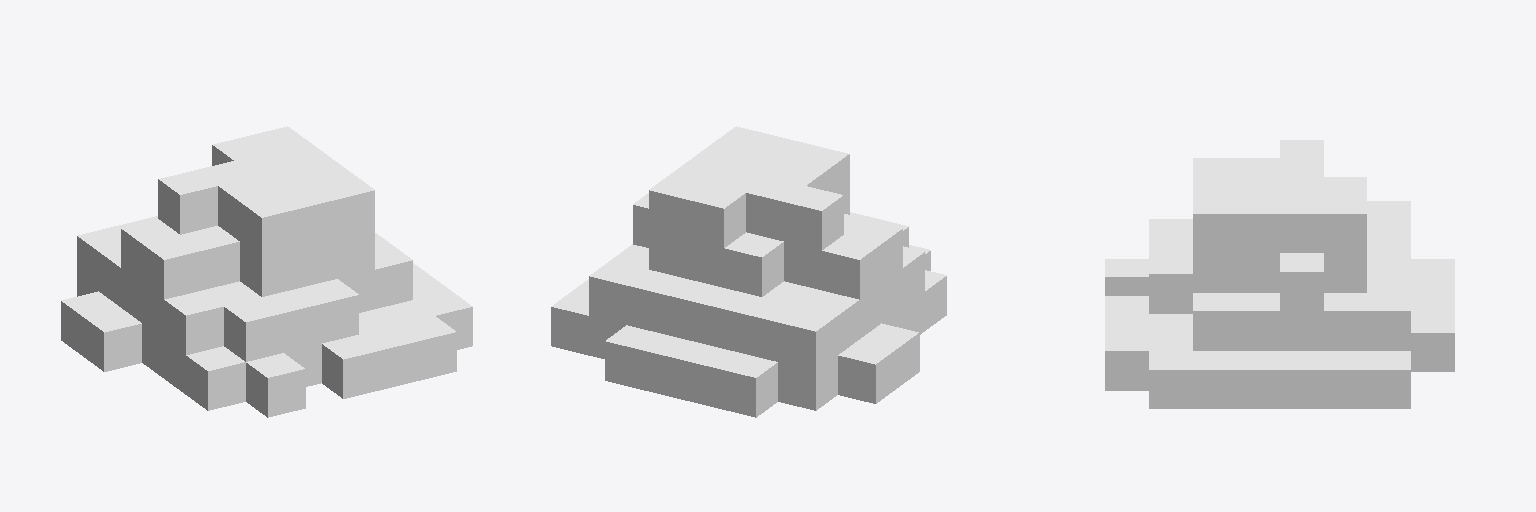
File: Rock_ground1.obj
The picture shows the model from 3 angles: view 1: azimuth 30°, elevation 25°; view 2: azimuth 150°, elevation 25°; view 3: azimuth 270°, elevation 25°; orthographic projection.
Size of the model in its own units: 8 by 4 by 8.